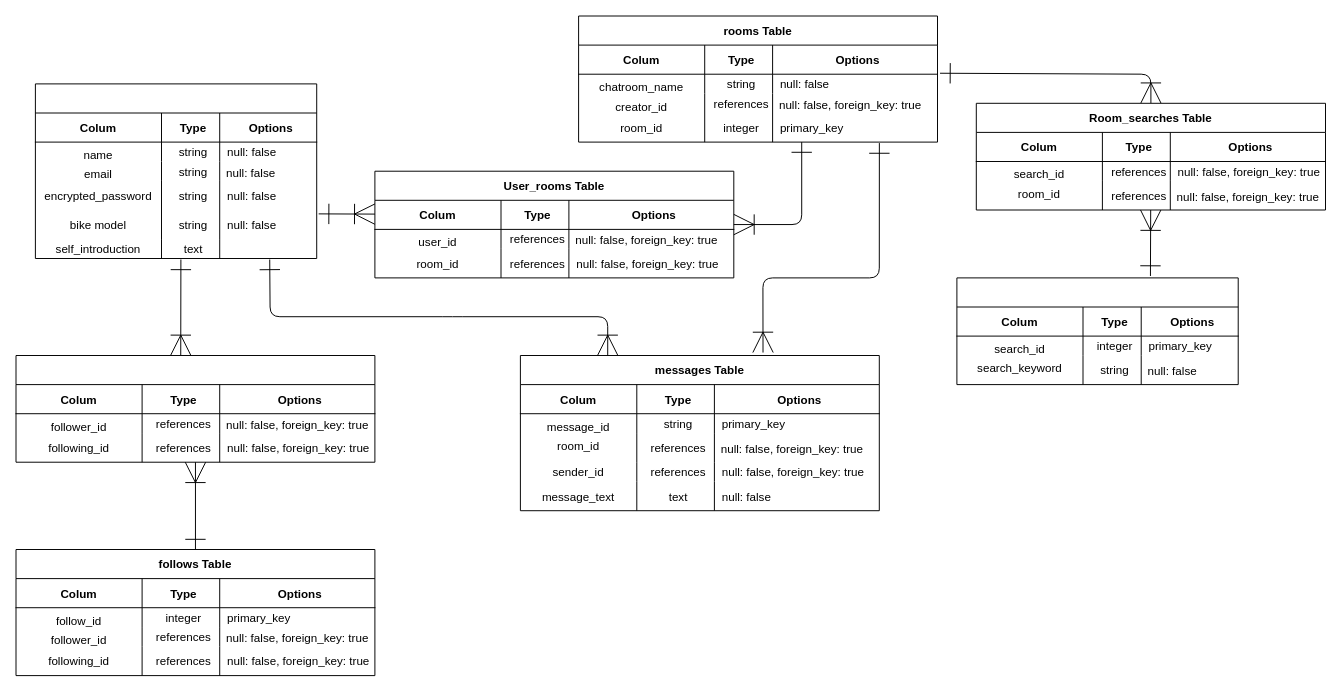
This 1342x692 diagram has some shape labels left out. The shapes that lost their labels are listed below. From the top down, each one's box as (x1, y1, x2, y2) in pixels, then its label:
(34, 83, 317, 259): Users Table
(956, 277, 1238, 385): Searches Table
(15, 355, 375, 462): User_follows Table
